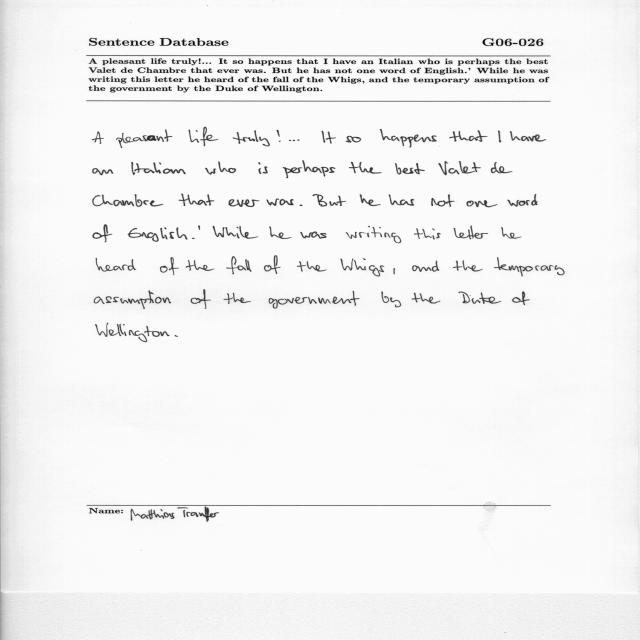word: (269, 291, 360, 309), (94, 290, 171, 309), (96, 323, 170, 342), (494, 257, 564, 276), (380, 129, 437, 148), (116, 129, 172, 148), (346, 226, 401, 243), (93, 194, 163, 207), (128, 227, 188, 242), (283, 161, 335, 178), (341, 259, 385, 277), (131, 162, 186, 175), (438, 161, 481, 175), (213, 226, 259, 239), (233, 131, 270, 147), (189, 127, 219, 146), (459, 291, 502, 304), (96, 258, 136, 271), (226, 256, 252, 275), (449, 130, 488, 142), (312, 194, 346, 207), (454, 226, 488, 239), (205, 161, 236, 175), (179, 194, 215, 206), (190, 289, 211, 309), (507, 194, 538, 207), (510, 131, 546, 142), (349, 162, 382, 174), (395, 163, 425, 175), (453, 260, 483, 272), (93, 225, 112, 243), (160, 257, 179, 275), (412, 260, 439, 272), (382, 292, 402, 308), (297, 261, 326, 272), (412, 293, 441, 304), (431, 194, 455, 207), (186, 260, 214, 271), (264, 255, 280, 274), (269, 226, 292, 239), (224, 293, 251, 304), (414, 229, 440, 240), (389, 195, 414, 206), (360, 194, 381, 206), (512, 291, 530, 305), (229, 199, 260, 207), (501, 227, 521, 239), (491, 162, 512, 173), (467, 200, 498, 207), (321, 131, 336, 144), (267, 199, 294, 206), (300, 232, 327, 239), (92, 131, 104, 144), (93, 168, 113, 175), (258, 162, 268, 174), (346, 136, 361, 142), (276, 130, 281, 142), (498, 131, 501, 143), (289, 140, 299, 142), (394, 268, 396, 274), (198, 225, 200, 230), (175, 335, 178, 337), (300, 205, 303, 206), (192, 238, 195, 239)
